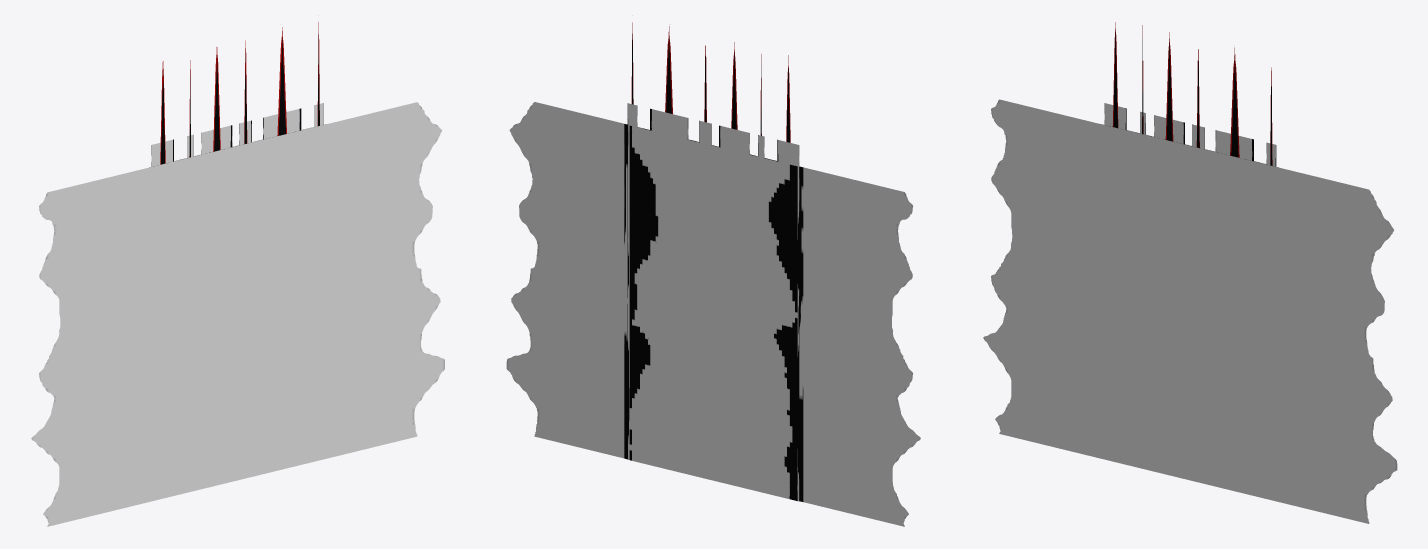
Rendered from fx_cutscene_finalbattle_01.fbx.
3 renders of one model, left to right at view 1: azimuth 30°, elevation 25°; view 2: azimuth 150°, elevation 25°; view 3: azimuth 330°, elevation 25°, orthographic.
Visible parts, largest first — view 1: beam_main_02_alpha, beam_main_03, ray_dark_mesh_01; view 2: beam_main_02_alpha, beam_main_01, beam_main_03, beam_sub_01, ray_dark_mesh_01; view 3: beam_main_02_alpha, ray_dark_mesh_01, beam_main_03.
Part boxes in pixels (x1,y1,x2,y2): beam_main_02_alpha: (31,102,444,526); beam_main_03: (151,103,323,166); ray_dark_mesh_01: (160,22,319,164); beam_main_02_alpha: (506,102,920,526); beam_main_01: (629,125,797,500); beam_main_03: (627,103,799,501); beam_sub_01: (624,124,803,501); ray_dark_mesh_01: (631,22,790,142); beam_main_02_alpha: (983,99,1397,523); ray_dark_mesh_01: (1112,22,1272,165); beam_main_03: (1104,103,1276,166).
Bounding box in the file's own units: 10686 × 10160 × 21.86.
